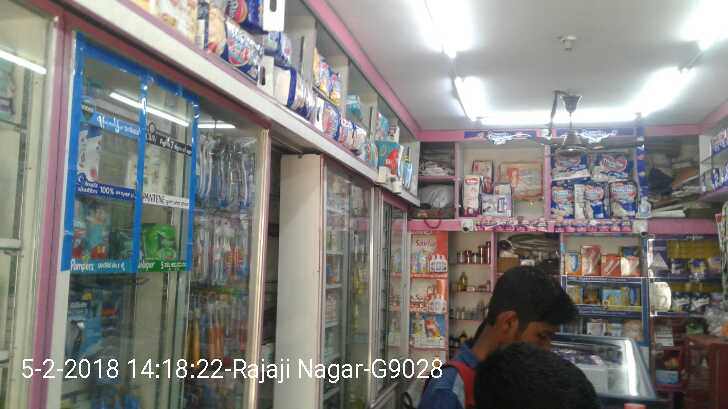beauty: (80, 128, 105, 182), (67, 301, 89, 361), (147, 142, 170, 196)
pharmacy: (86, 196, 113, 258), (142, 221, 179, 261)
